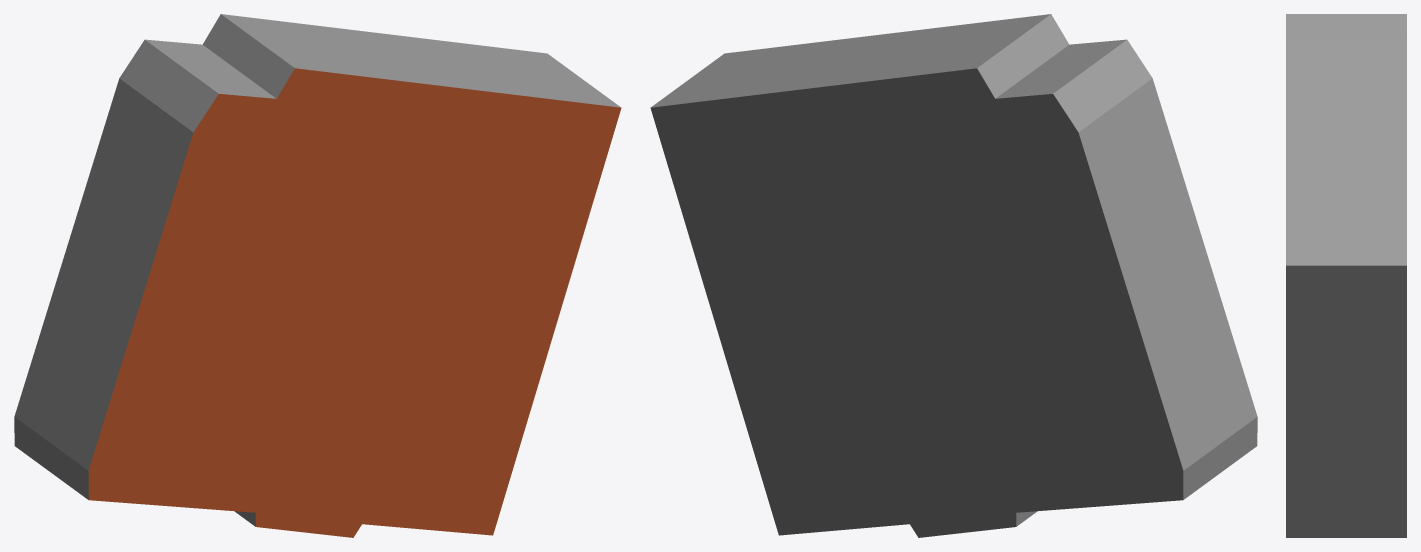
File: construction_3749_assumed_A_Casa_h6m.obj
The picture shows the model from 3 angles, left to right: view 1: azimuth 30°, elevation 25°; view 2: azimuth 150°, elevation 25°; view 3: azimuth 270°, elevation 25°; orthographic projection. The views are drawn at different scales.
Visible parts, largest first — view 1: construction_3749_assumed_A_Casa; view 2: construction_3749_assumed_A_Casa; view 3: construction_3749_assumed_A_Casa.
Boxes of the visible parts, x1=… form: construction_3749_assumed_A_Casa: x1=14, y1=14, x2=621, y2=537; construction_3749_assumed_A_Casa: x1=650, y1=14, x2=1257, y2=537; construction_3749_assumed_A_Casa: x1=1286, y1=14, x2=1406, y2=537.
Bounding box in the file's own units: 24.92 × 23.03 × 6.
